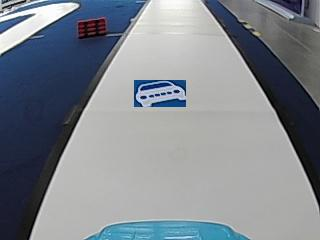bomb: (77, 16, 106, 38)
